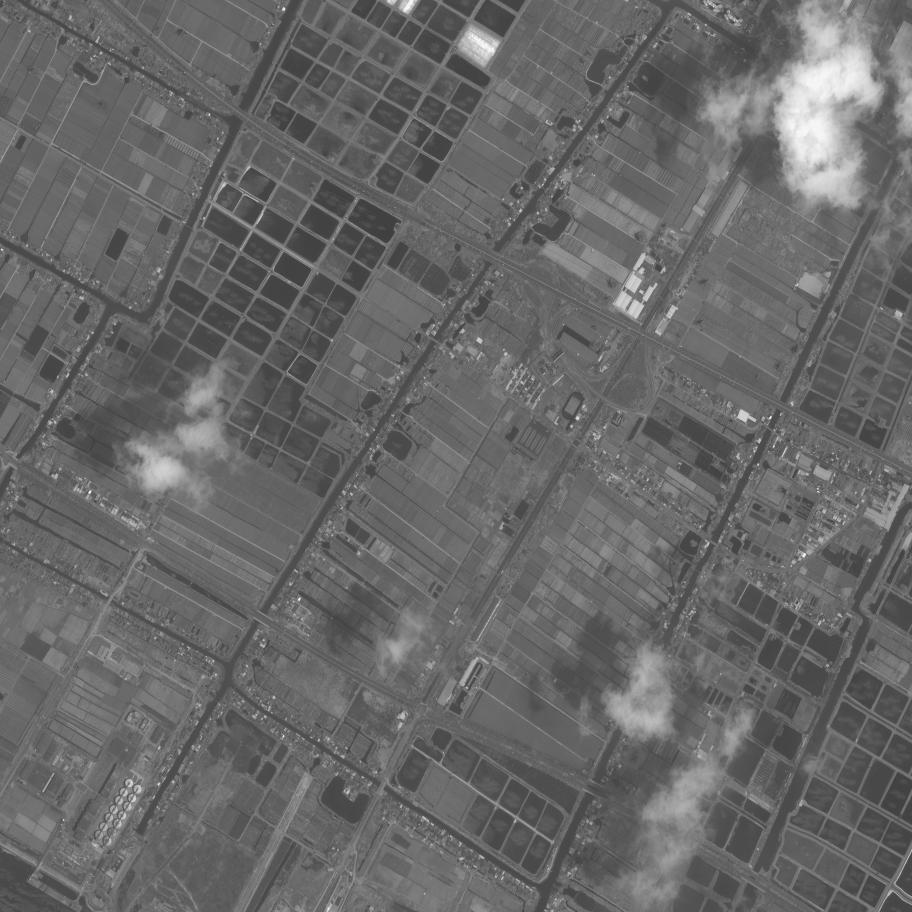storage-tank: (117, 810, 127, 821), (127, 793, 137, 803), (114, 795, 124, 805), (107, 828, 117, 838), (94, 830, 104, 840), (109, 804, 118, 815), (105, 812, 114, 823), (133, 784, 142, 794), (119, 788, 128, 798), (123, 801, 132, 811), (113, 819, 122, 829), (99, 822, 108, 832), (103, 836, 112, 846), (125, 778, 134, 788)
